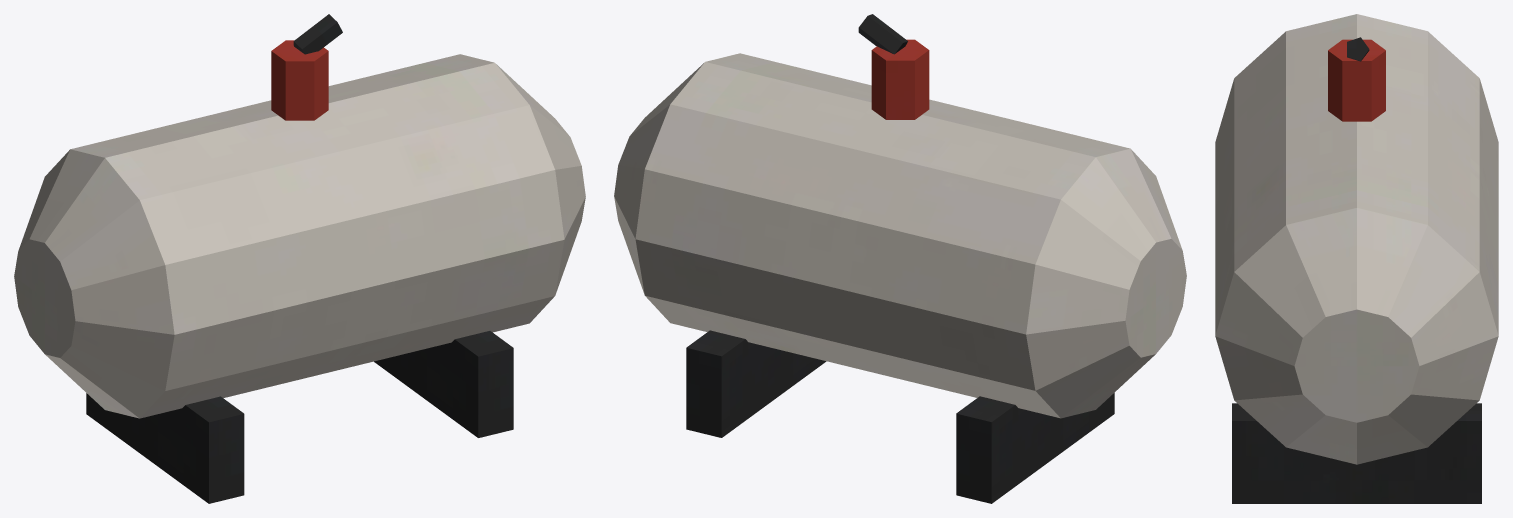
The model's file is propane_tank_01.glb.
3 renders of one model, left to right at view 1: azimuth 30°, elevation 25°; view 2: azimuth 150°, elevation 25°; view 3: azimuth 270°, elevation 25°, orthographic.
Parts seen in each view (by area): view 1: propane_tank_01; view 2: propane_tank_01; view 3: propane_tank_01.
Boxes of the visible parts, x1,y1,x2,y2 form: propane_tank_01: (14,14,585,503); propane_tank_01: (614,14,1186,503); propane_tank_01: (1215,14,1498,503).
Size of the model in its own units: 1.44 by 1.08 by 0.68.
3 materials, 3 textured.
